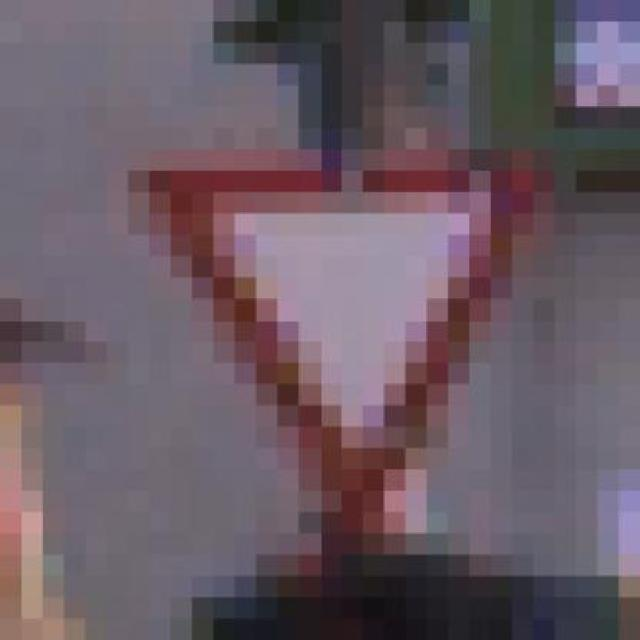Give Way: (86, 106, 576, 512)
